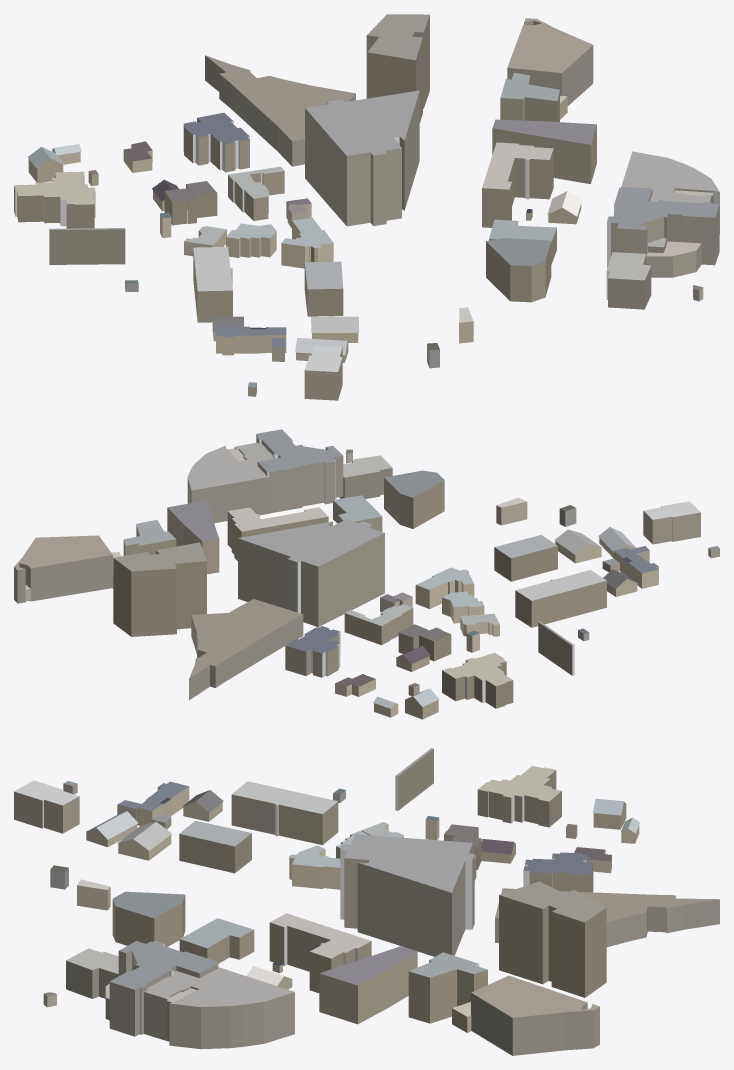
The picture shows the model from 3 angles, top to bottom: view 1: azimuth 30°, elevation 25°; view 2: azimuth 150°, elevation 25°; view 3: azimuth 270°, elevation 25°; orthographic projection. The views are drawn at different scales.
Parts seen in each view (by area): view 1: tuile; view 2: tuile; view 3: tuile.
Boxes of the visible parts, x1,y1,x2,y2 form: tuile: (14, 14, 719, 400); tuile: (14, 429, 719, 719); tuile: (14, 748, 719, 1055).
Size of the model in its own units: 269 by 40.08 by 284.
